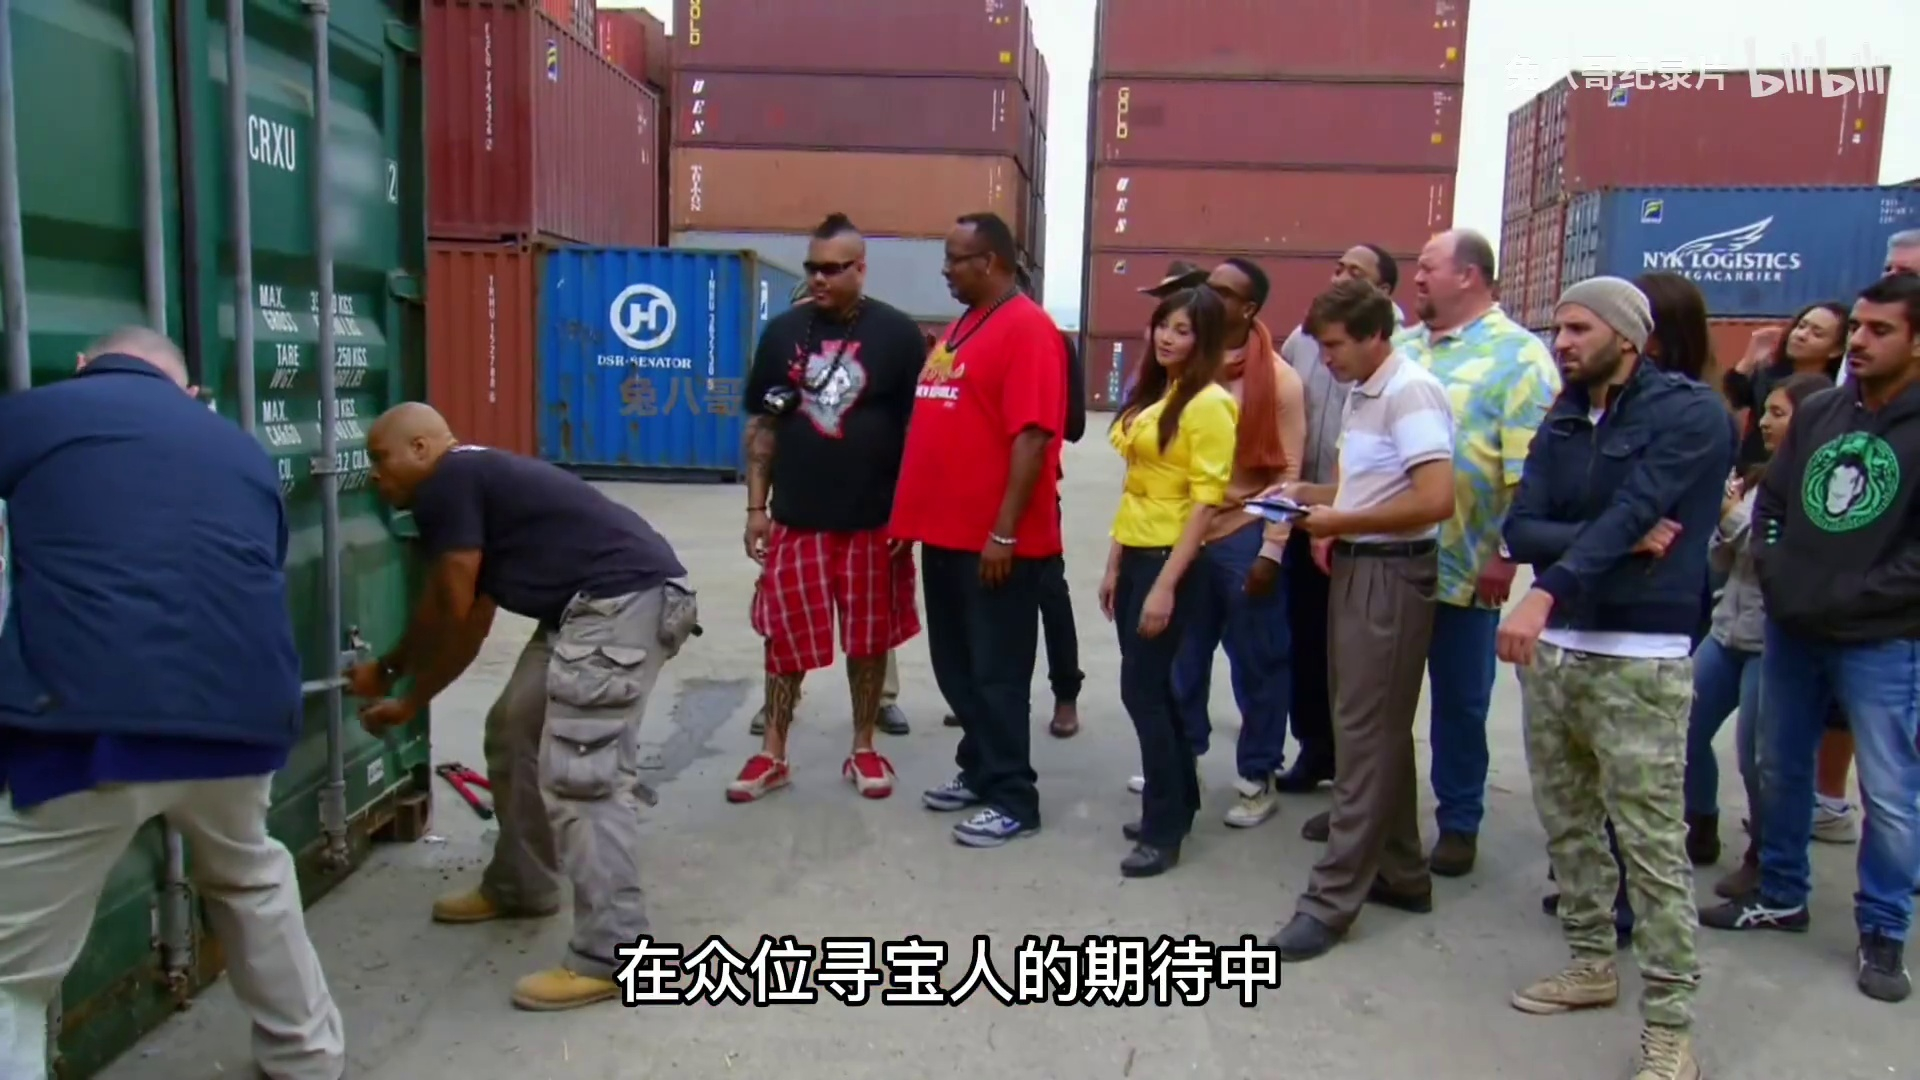container: (435, 12, 664, 245), (542, 260, 773, 469), (1097, 83, 1464, 163), (1092, 177, 1456, 254), (1101, 3, 1466, 76), (1550, 92, 1876, 174), (675, 156, 1024, 232), (675, 78, 1023, 151), (1573, 206, 1900, 283), (679, 5, 1026, 67), (448, 253, 534, 455), (605, 13, 664, 83), (1502, 112, 1532, 213), (1533, 213, 1561, 303), (560, 4, 601, 36)
opendoor: (3, 12, 467, 873)
person: (6, 324, 355, 1077), (359, 396, 702, 1009), (1514, 278, 1717, 1080), (1283, 281, 1439, 955), (905, 209, 1053, 850), (1812, 269, 1919, 1004), (770, 220, 903, 806), (1107, 290, 1234, 885), (1394, 241, 1497, 870), (1200, 238, 1296, 832), (1717, 385, 1782, 908), (1733, 291, 1835, 505), (1315, 222, 1407, 423), (1025, 547, 1111, 729), (857, 622, 930, 749), (1152, 254, 1202, 313), (1870, 233, 1920, 288), (783, 281, 820, 306)
vise: (430, 756, 517, 833)
